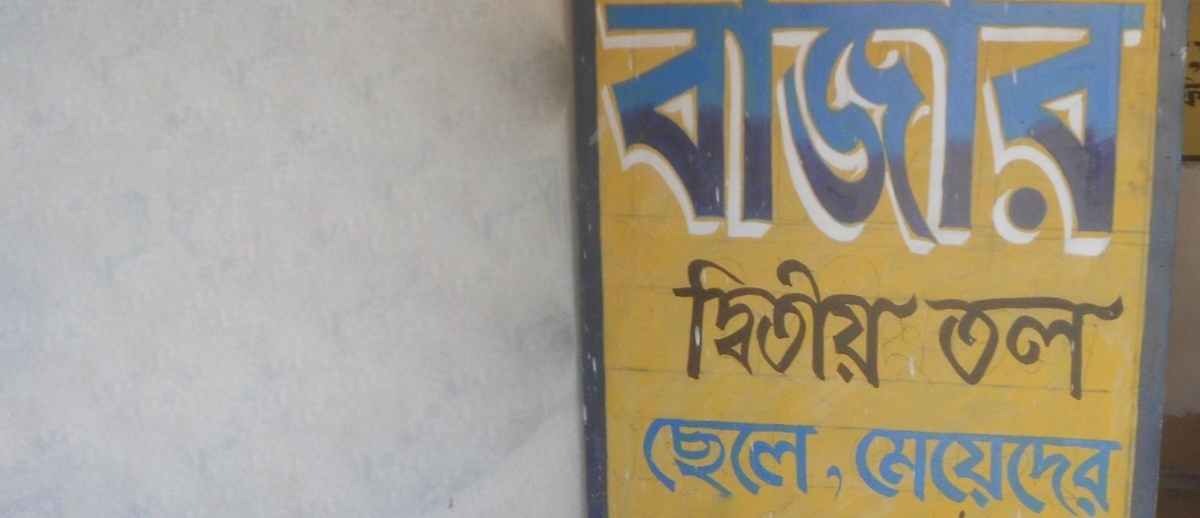text: (609, 5, 624, 257), (625, 5, 640, 257), (641, 5, 656, 257), (657, 5, 672, 257), (673, 5, 688, 257), (689, 5, 704, 257), (705, 5, 720, 257), (721, 5, 736, 257), (737, 5, 752, 257), (753, 5, 768, 257), (769, 5, 784, 257), (785, 5, 800, 257), (801, 5, 816, 257), (817, 5, 832, 257), (833, 5, 848, 257), (849, 5, 864, 257), (865, 5, 880, 257), (881, 5, 896, 257), (897, 5, 912, 257), (913, 5, 928, 257), (929, 5, 944, 257), (945, 5, 960, 257), (961, 5, 976, 257), (977, 5, 992, 257), (993, 5, 1008, 257), (1009, 5, 1024, 257), (1025, 5, 1040, 257), (1041, 5, 1056, 257), (1057, 5, 1072, 257), (1073, 5, 1088, 257), (1089, 5, 1104, 257), (1105, 5, 1120, 257), (1121, 5, 1136, 257), (1137, 5, 1152, 257), (673, 255, 688, 392), (689, 255, 704, 392), (705, 255, 720, 392), (721, 255, 736, 392), (737, 255, 752, 392), (753, 255, 768, 392), (769, 255, 784, 392), (785, 255, 800, 392), (801, 255, 816, 392), (817, 255, 832, 392), (833, 255, 848, 392), (849, 255, 864, 392), (865, 255, 880, 392), (881, 255, 896, 392), (897, 255, 912, 392), (705, 28, 720, 163), (721, 28, 736, 163), (737, 28, 752, 163), (753, 28, 768, 163), (769, 28, 784, 163), (785, 28, 800, 163), (801, 28, 816, 163), (817, 28, 832, 163), (833, 28, 848, 163), (849, 28, 864, 163), (865, 28, 880, 163), (881, 28, 896, 163), (897, 28, 912, 163), (913, 28, 928, 163), (690, 28, 704, 163), (929, 294, 944, 401), (945, 294, 960, 401), (961, 294, 976, 401), (977, 294, 992, 401), (993, 294, 1008, 401), (1009, 294, 1024, 401), (1025, 294, 1040, 401), (1041, 294, 1056, 401), (1057, 294, 1072, 401), (1073, 294, 1088, 401), (1089, 294, 1104, 401), (1105, 294, 1120, 401), (865, 427, 880, 515), (881, 427, 896, 515), (897, 427, 912, 515), (913, 427, 928, 515), (929, 427, 944, 515), (945, 427, 960, 515), (961, 427, 976, 515), (977, 427, 992, 515), (993, 427, 1008, 515), (1009, 427, 1024, 515), (1025, 427, 1040, 515), (1041, 427, 1056, 515), (1057, 427, 1072, 515), (1073, 427, 1088, 515), (1089, 427, 1104, 515), (1105, 427, 1120, 515), (641, 416, 656, 503), (657, 416, 672, 503), (673, 416, 688, 503), (689, 416, 704, 503), (705, 416, 720, 503), (721, 416, 736, 503), (737, 416, 752, 503), (753, 416, 768, 503), (769, 416, 784, 503), (785, 416, 800, 503), (801, 416, 816, 503), (817, 416, 832, 503), (929, 28, 938, 163), (833, 416, 845, 503), (856, 427, 864, 515), (668, 255, 672, 392), (913, 255, 917, 392), (1153, 5, 1155, 257), (924, 294, 928, 401), (1121, 294, 1125, 401), (1121, 427, 1125, 515), (607, 5, 608, 257)
